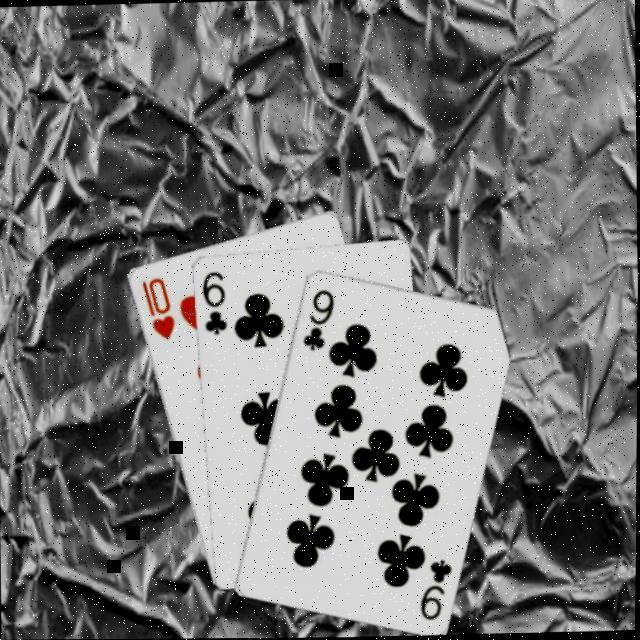10H: (135, 274, 176, 343)
6C: (196, 268, 229, 338)
9C: (297, 286, 336, 355), (415, 556, 454, 625)
